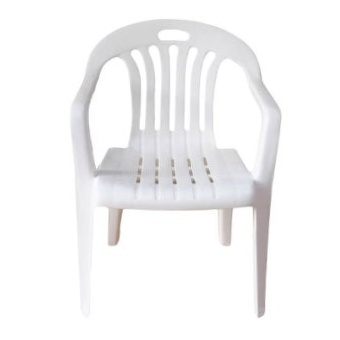plastic: (43, 22, 306, 320)
